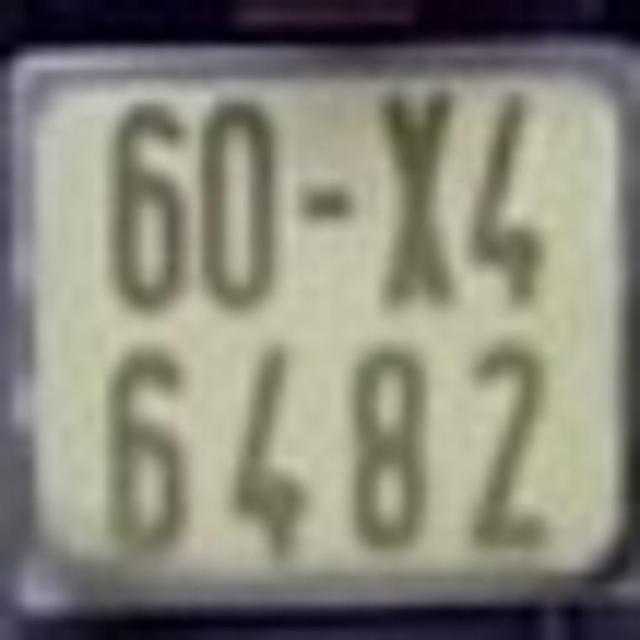0: (203, 100, 274, 314)
2: (475, 348, 544, 548)
4: (233, 342, 306, 556), (481, 91, 546, 304)
6: (113, 345, 186, 553), (118, 104, 190, 301)
8: (356, 348, 424, 540)
X: (375, 109, 452, 304)
